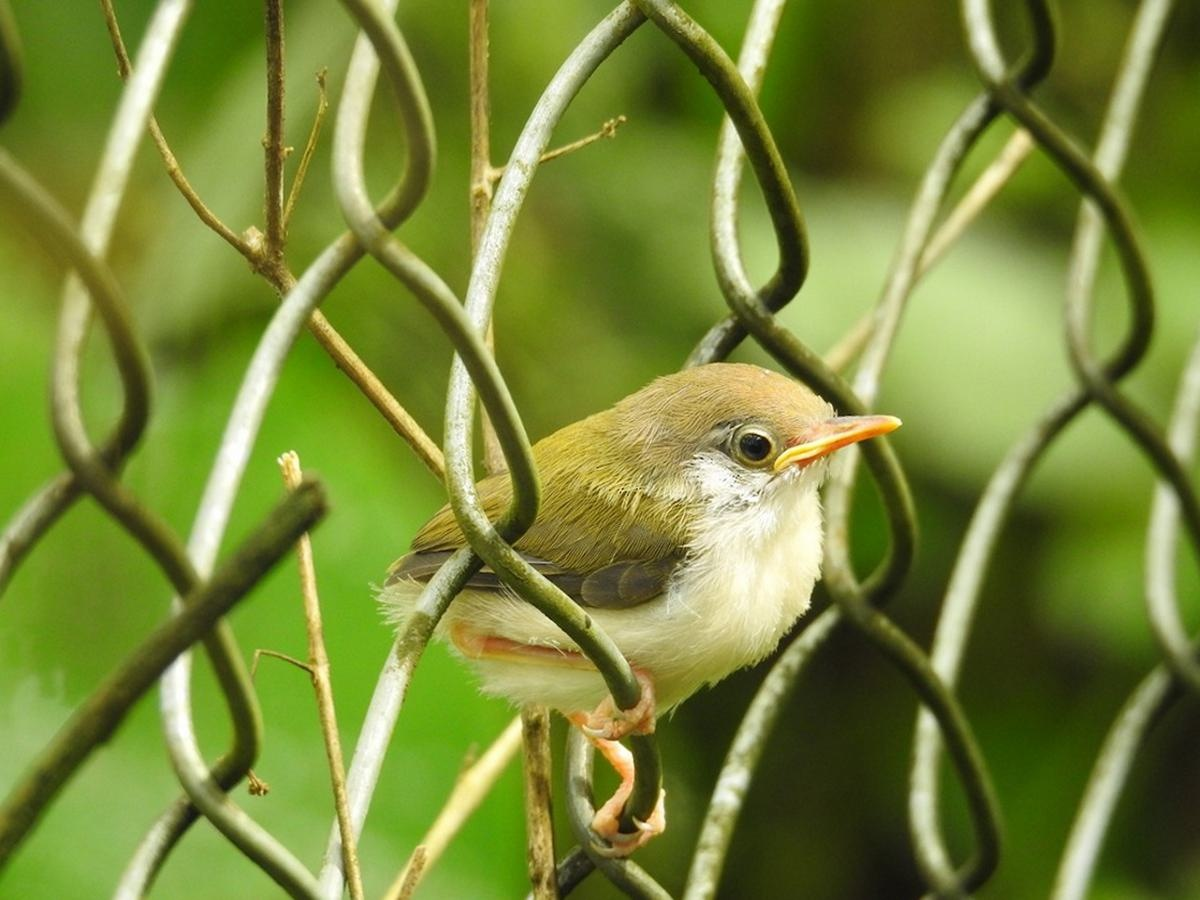tailorbird: (365, 294, 984, 822)
